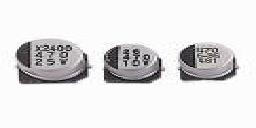Electrolytic-Capacitor: (10, 35, 91, 93), (176, 39, 242, 89), (102, 39, 165, 91)
